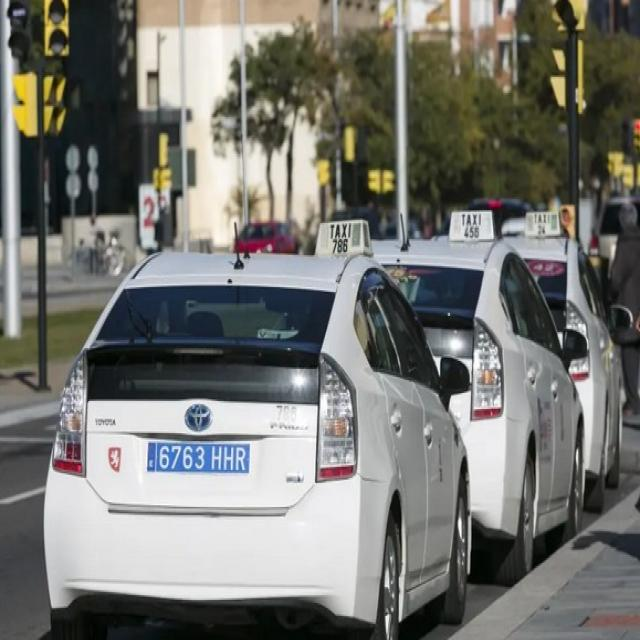license_plate-34Td: (147, 443, 249, 472)
